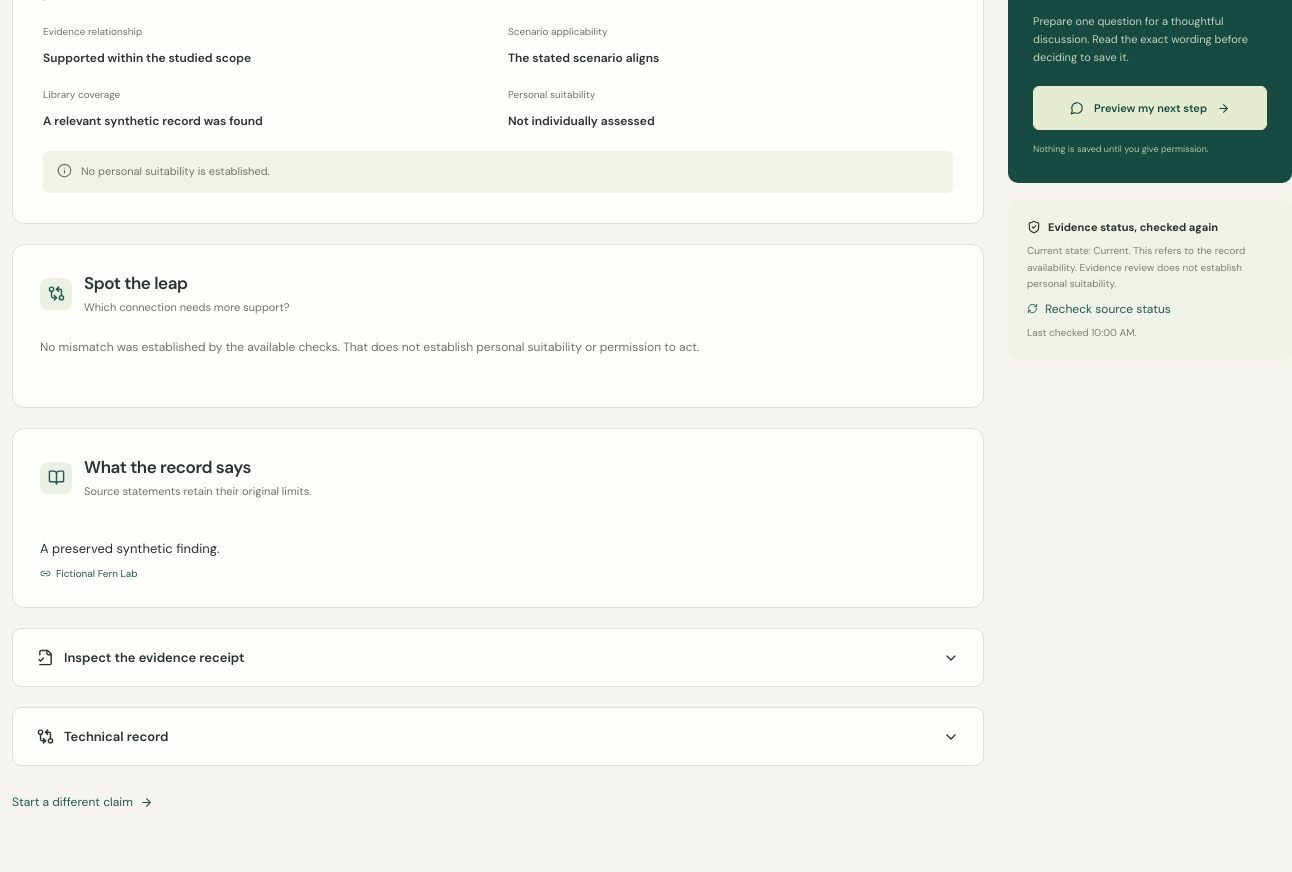
Scenario: Explicit save consent and current evidence boundaries › preserves the replay receipt label with $alignment_mode alignment
The image size is (1292, 872).
(page scrolled)
Step 1. Click the heading "Inspect the evidence receipt" → coordinates (154, 658), box [37, 649, 959, 666]
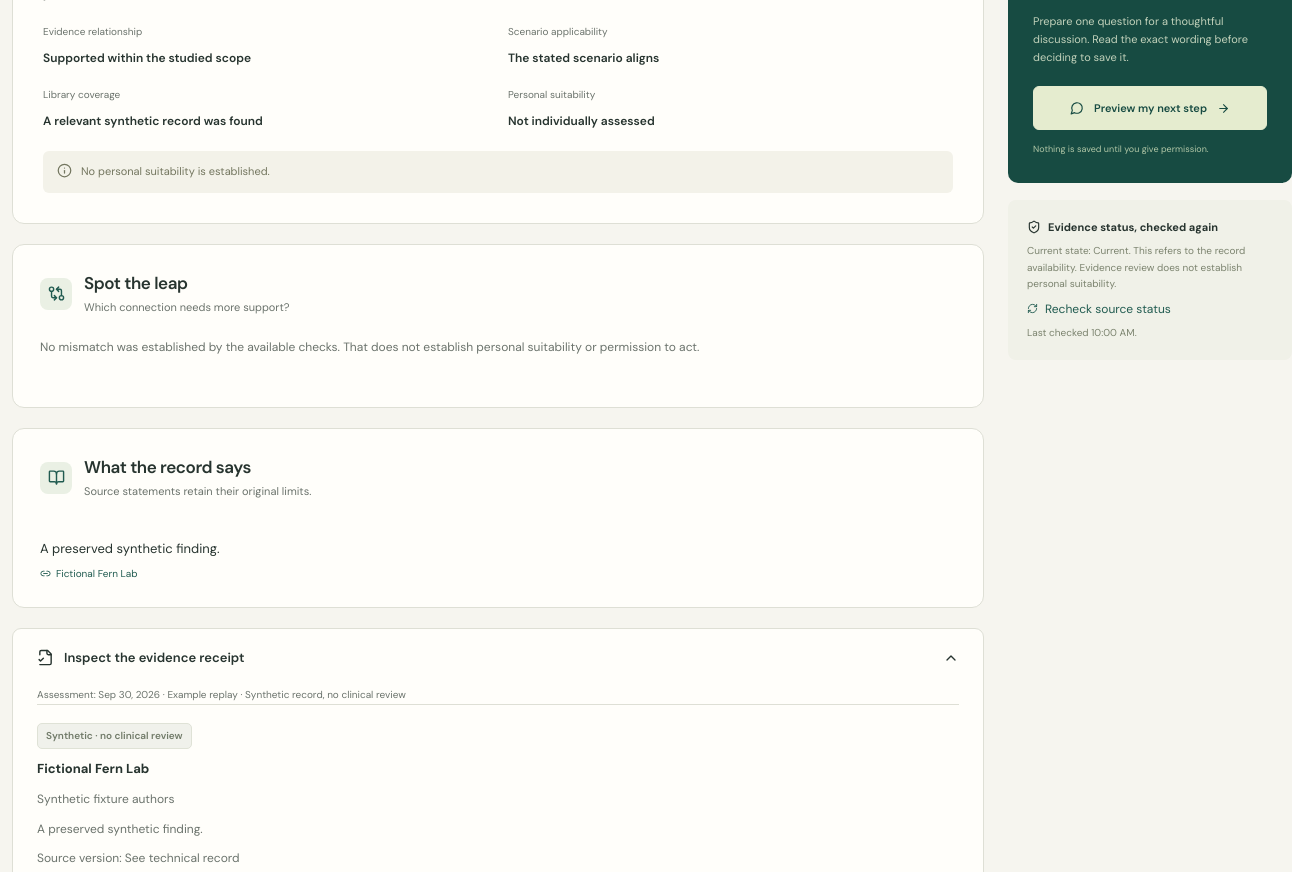
expect the text "Example replay" is shown: met, box [167, 688, 238, 701]
